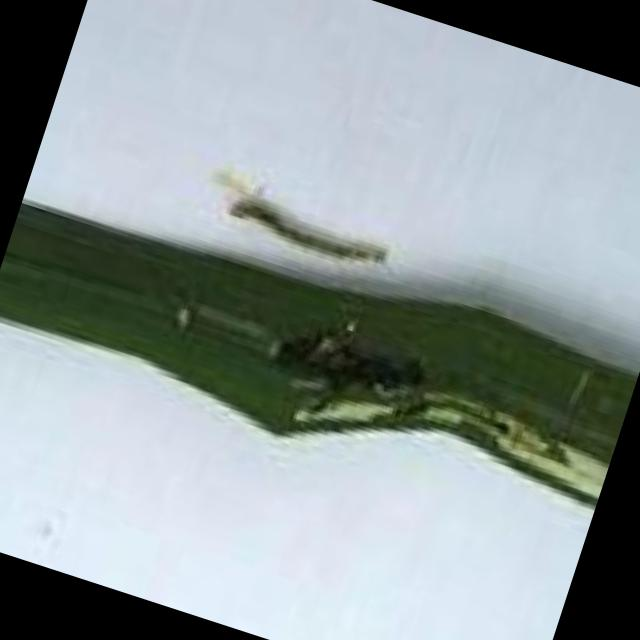leaf-folder: (186, 123, 428, 300)
